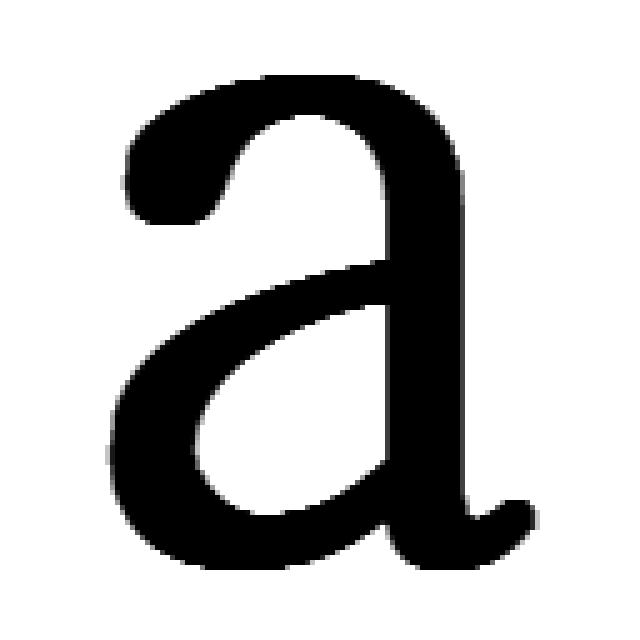A: (90, 60, 540, 580)
